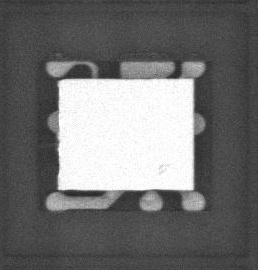DIE_INK: (157, 162, 169, 176)
